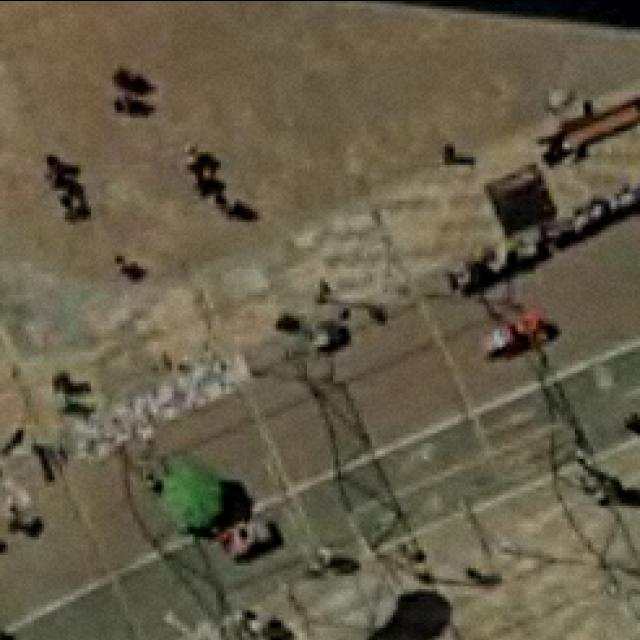vendedor_ambulante: (158, 458, 228, 532)
